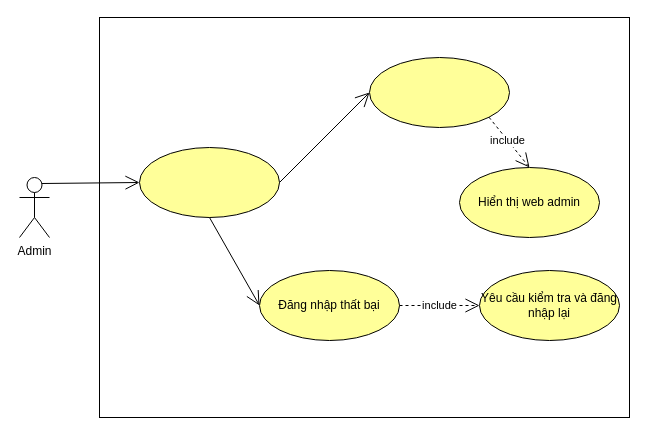
This 647x435 diagram has some shape labels left out. The shapes that lost their labels are listed below. From the top down, each one's centre as x and y in pixels, then its label:
At point 439,92: "Đăng nhập thành công".
At point 209,182: "Đăng nhập".
